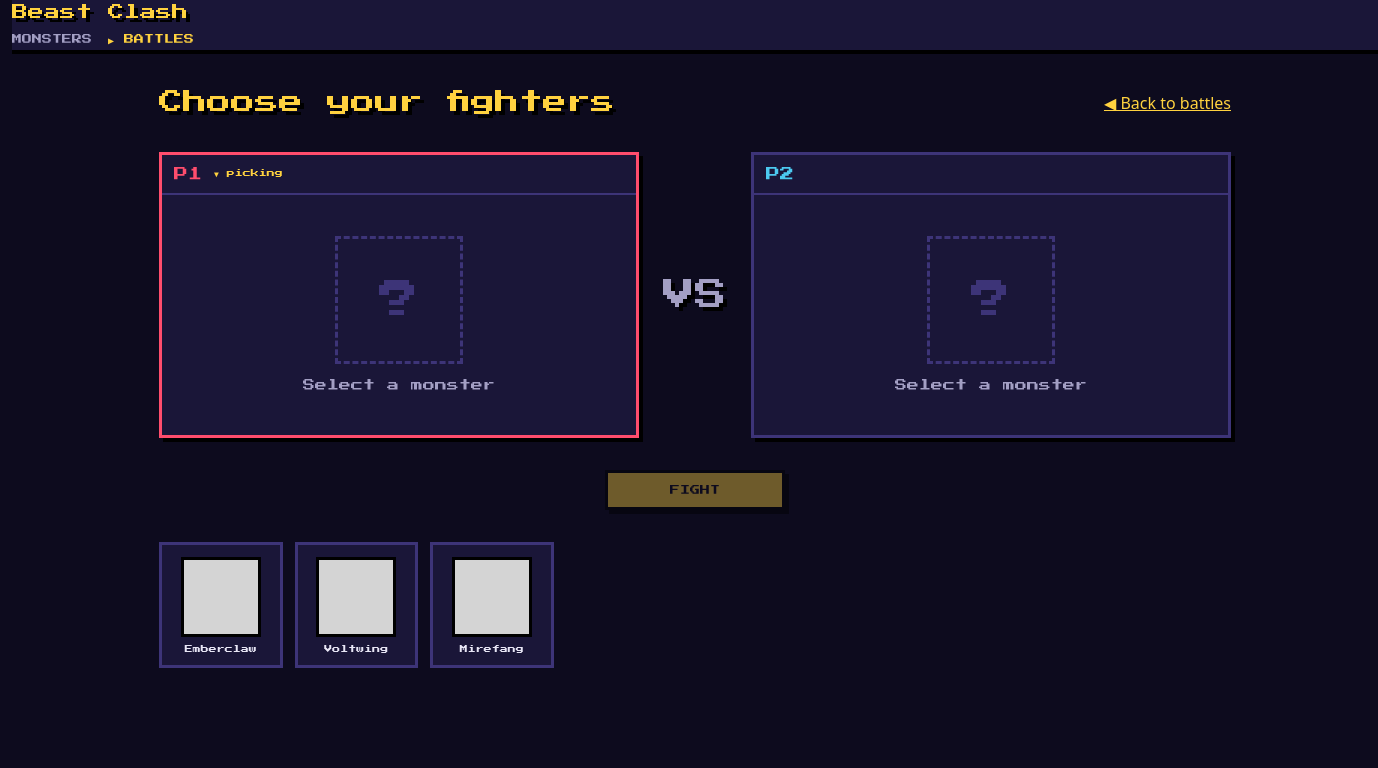
Test: CharacterSelectPage › does not let P2 pick the monster chosen by P1
What coordinates should you click on to do the following:
click the button "Emberclaw"
I would click on:
 (221, 605)
Its box is left=159, top=542, right=282, bottom=668.
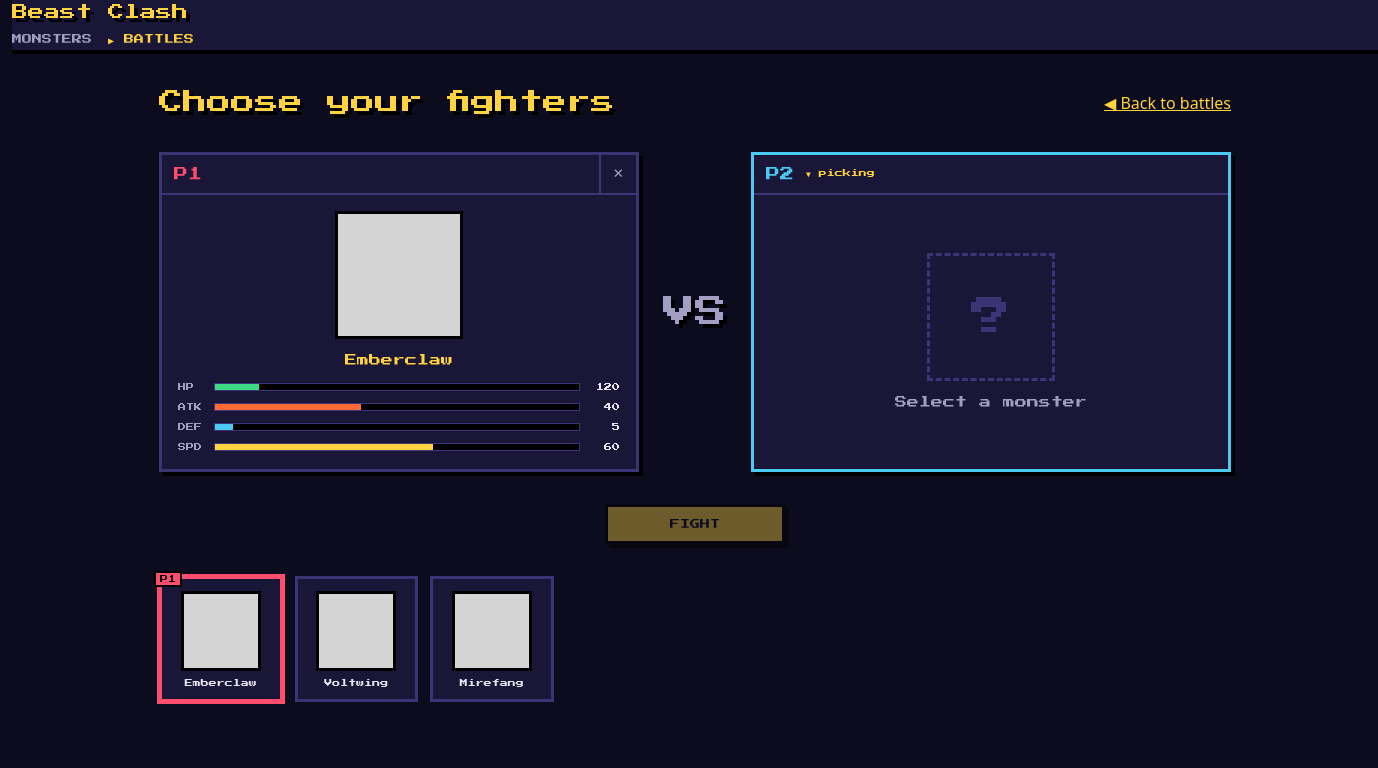
Result: the button named "Emberclaw, P1" is disabled at left=159, top=576, right=282, bottom=702
